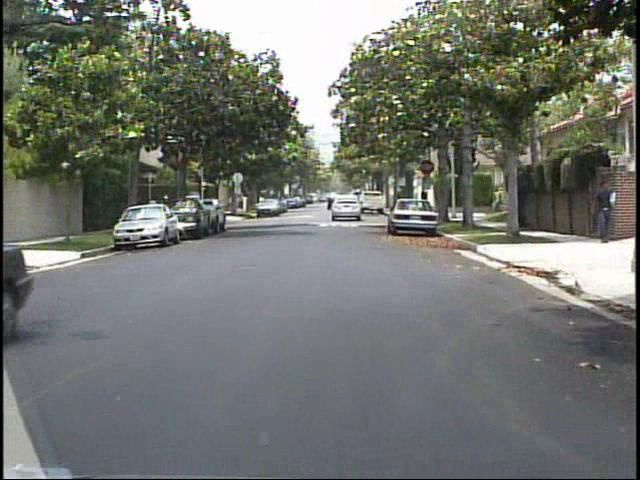person: (588, 176, 616, 248), (149, 193, 165, 229), (417, 185, 434, 215)
